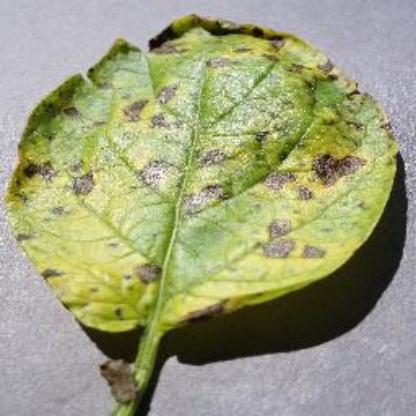Early-Blight: (11, 11, 400, 401)
